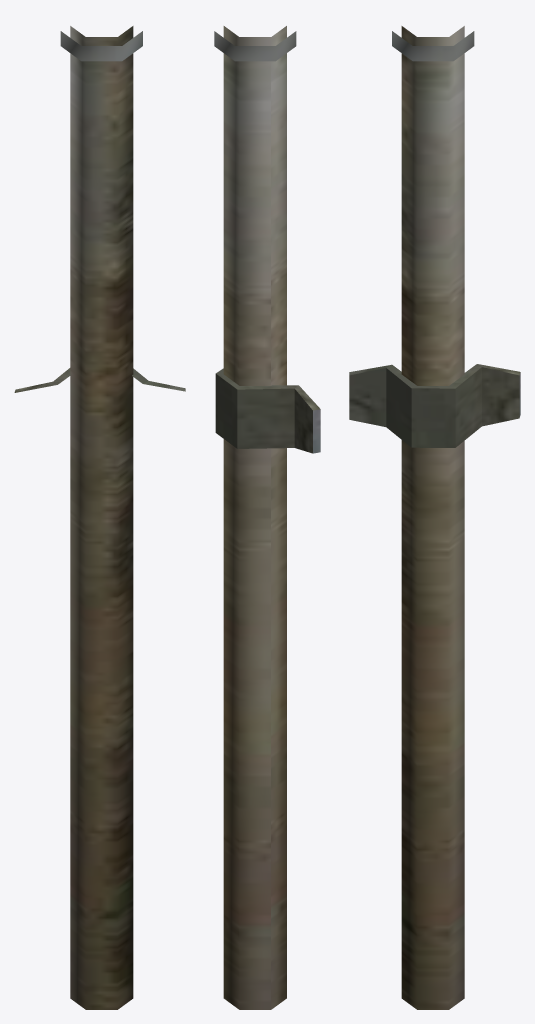
Rendered from pipesystem01b.glb.
The picture shows the model from 3 angles, left to right: view 1: azimuth 90°, elevation 25°; view 2: azimuth 210°, elevation 25°; view 3: azimuth 270°, elevation 25°; orthographic projection.
Visible parts, largest first — view 1: 0_powerbox001; view 2: 0_powerbox001; view 3: 0_powerbox001.
Part boxes in pixels (bbox=[...]): 0_powerbox001: bbox=[14, 26, 185, 1009]; 0_powerbox001: bbox=[214, 26, 320, 1009]; 0_powerbox001: bbox=[349, 26, 520, 1009].
Size of the model in its own units: 0.0765 by 1.15 by 0.1838.
1 material, 1 textured.
